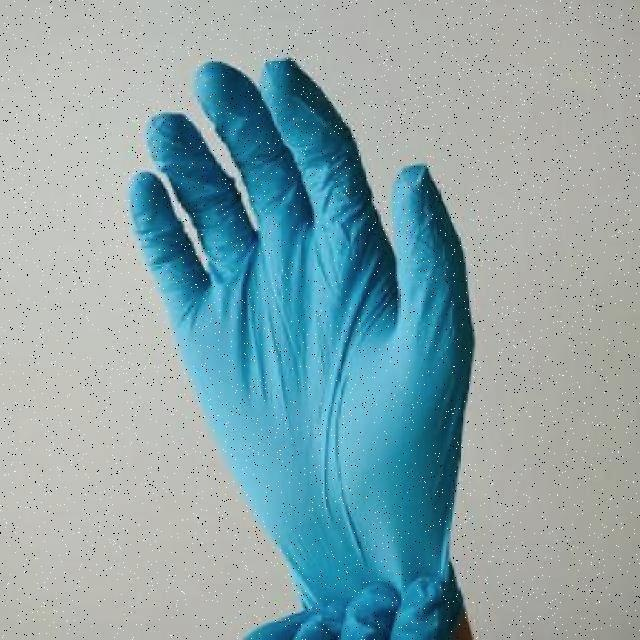Guantes: (126, 56, 475, 639)
